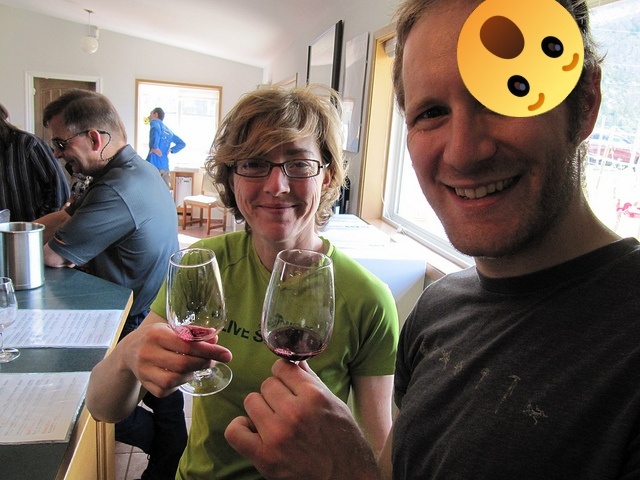wow: (457, 0, 584, 117)
